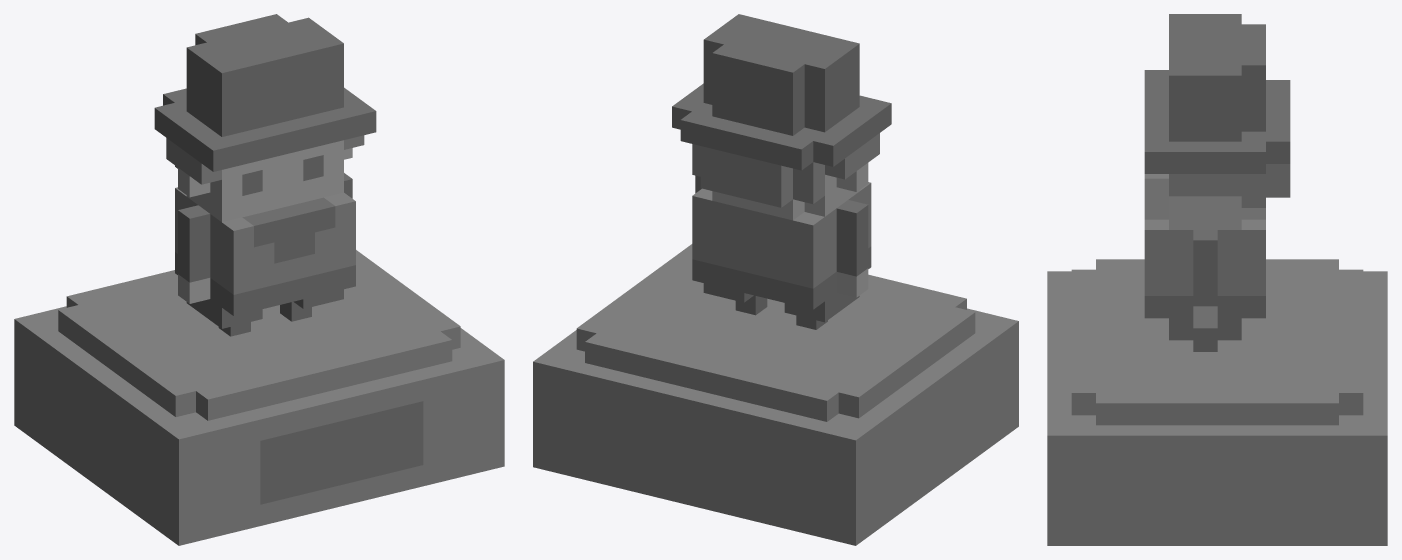
The model's file is obj_statue2.obj.
The picture shows the model from 3 angles, left to right: view 1: azimuth 30°, elevation 25°; view 2: azimuth 150°, elevation 25°; view 3: azimuth 270°, elevation 25°; orthographic projection. The views are drawn at different scales.
Size of the model in its own units: 1.6 by 1.9 by 1.4.
Materials: 1 (1 with a texture image).
